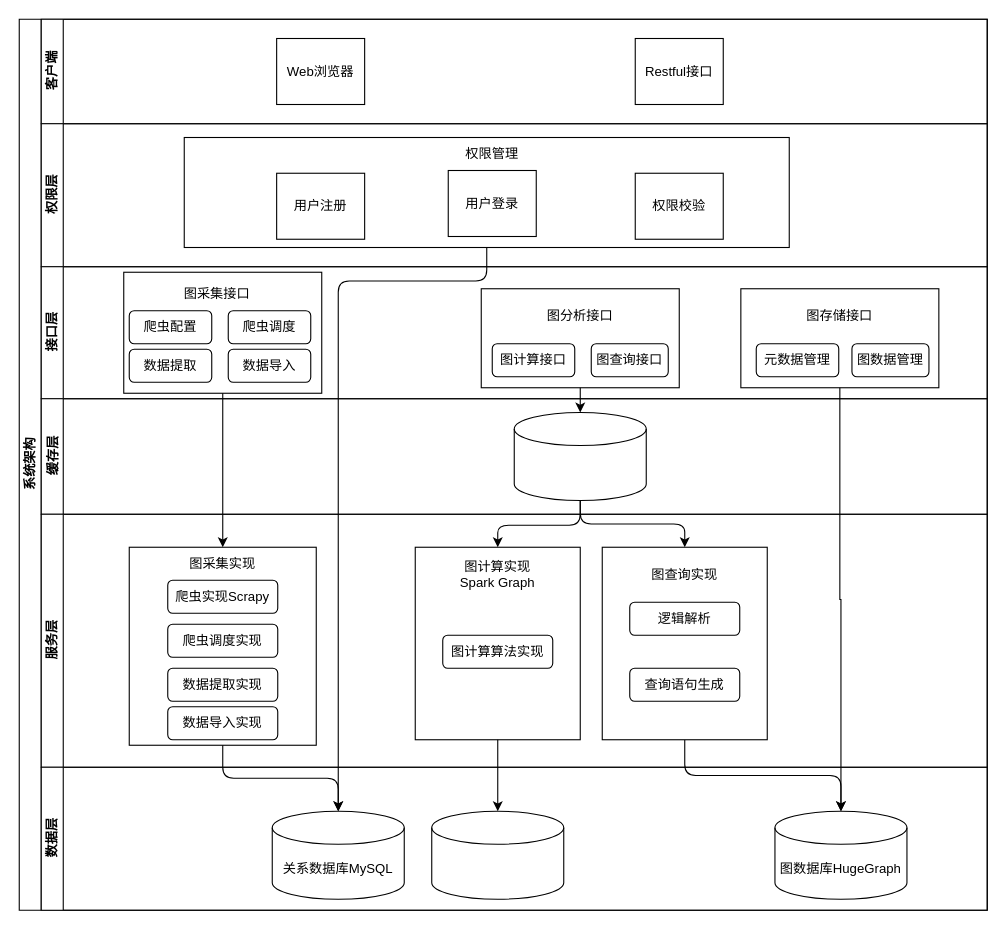
The diagram is 1007 pixels wide and 930 high, and some of its shapes have lost their labels. The centre of each missing label's shape, as x and y in pixels:
"Redis" belongs at (x=579, y=456).
"分布式文件系统HDFS" belongs at (x=497, y=854).
